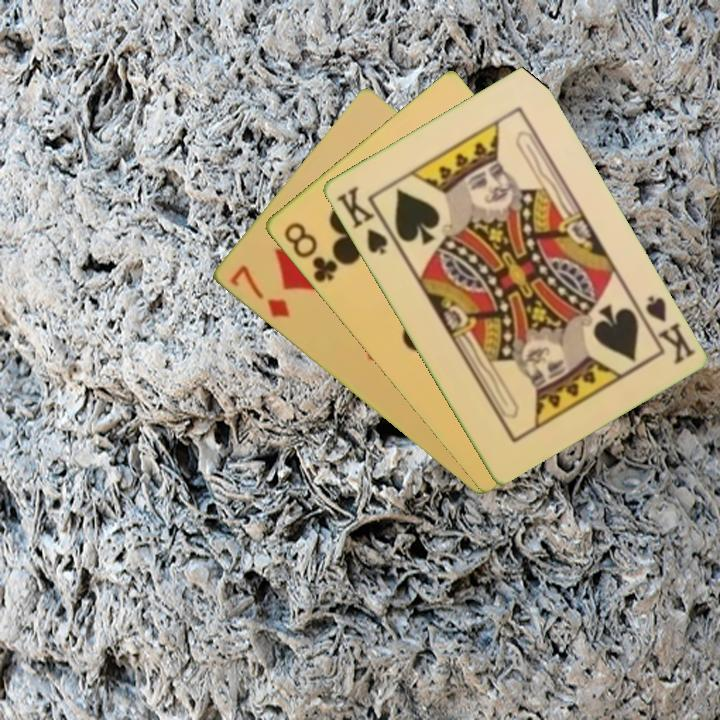7d: (226, 261, 293, 321)
8c: (279, 218, 340, 286)
Ks: (631, 292, 698, 367), (332, 182, 398, 258)
